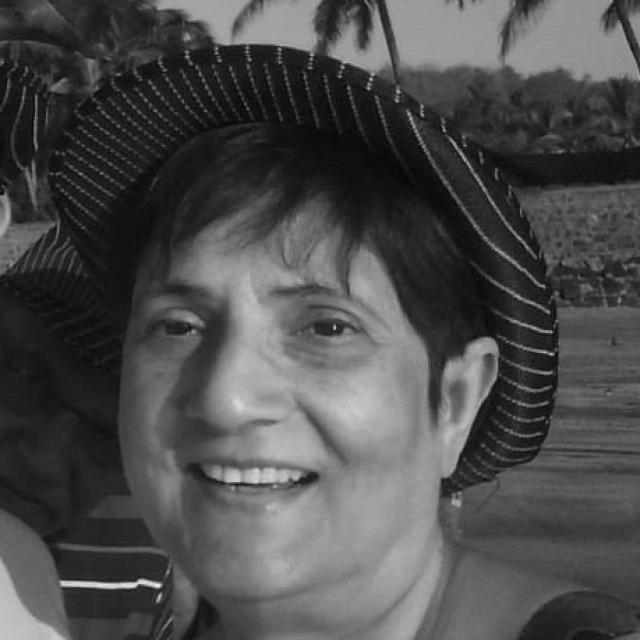without_mask: (44, 42, 560, 495)
